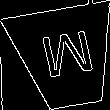M_S: (35, 28, 96, 87)
